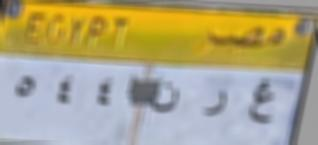4: (53, 73, 76, 110), (96, 75, 114, 109)
5: (12, 72, 36, 103)
ghayn: (247, 79, 275, 129)
noon: (150, 81, 184, 112)
raa: (201, 89, 229, 120)
